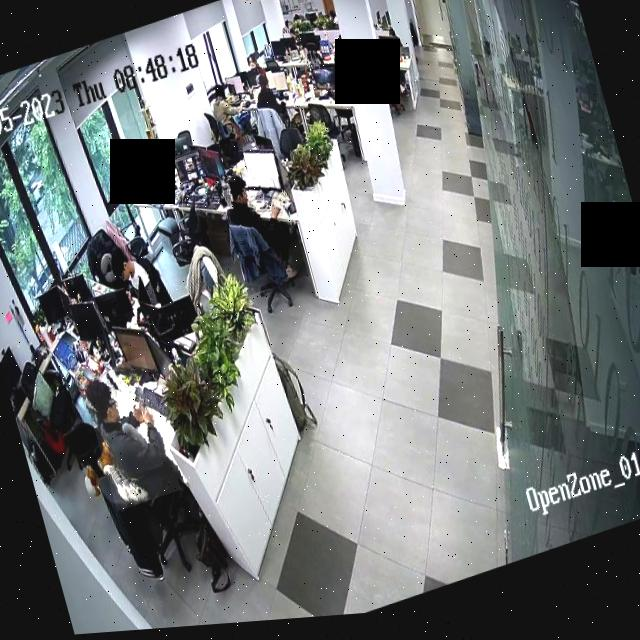person: (81, 355, 181, 514), (216, 159, 308, 301), (105, 240, 162, 317), (206, 81, 252, 162), (249, 74, 286, 138), (242, 54, 270, 97)
